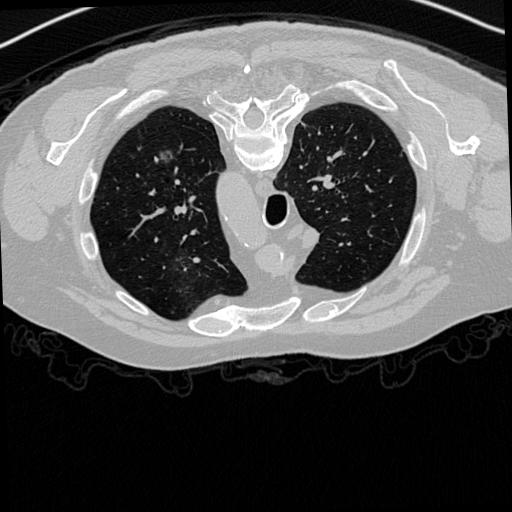nodule: (158, 148, 176, 166)
